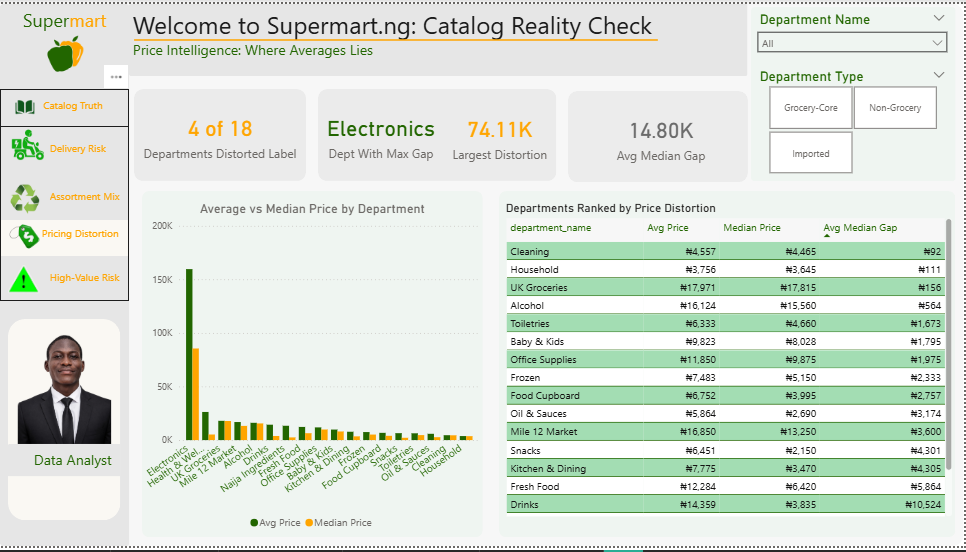

What the dashboard file says about the page in this screenshot:
{"tool":"powerbi","page":{"name":"Pricing Distortion","canvas":[1280,720],"ordinal":3},"visuals":[{"type":"shape","box":[0,0,1280.2,720],"z":0},{"type":"actionButton","box":[0,113.5,171.8,50.8],"z":0,"group":"g5"},{"type":"shape","box":[998.6,4.5,271.9,231.5],"z":500,"group":"g7"},{"type":"shape","box":[177.8,113.5,228.5,122.5],"z":1000},{"type":"actionButton","box":[0,164.3,171.8,50.8],"z":1000,"group":"g5"},{"type":"shape","box":[0,0,171.8,720],"z":2000},{"type":"slicer","fields":{"Values":["public dim_department.department_type"]},"box":[996.9,80.7,271.9,152.4],"z":2000,"group":"g7"},{"type":"actionButton","box":[0,236,171.8,50.8],"z":2000,"group":"g5"},{"type":"shape","box":[422.7,113.5,316.7,122.5],"z":3000},{"type":"shape","box":[171.8,0,821.6,95.6],"z":4000},{"type":"slicer","fields":{"Values":["public fact_products.department_name"]},"box":[997.1,4.5,271.9,76.2],"z":4000,"group":"g7"},{"type":"actionButton","box":[0,343.5,171.8,50.8],"z":4000,"group":"g5"},{"type":"shape","box":[754.4,115,239,121],"z":5000},{"type":"textbox","box":[171.8,0,826.1,95.6],"z":6000},{"type":"image","box":[43.3,31.4,86.6,64.2],"z":7000},{"type":"textbox","box":[0,0,171.8,50.8],"z":8000},{"type":"shape","box":[177.8,0,696.1,95.6],"z":9000},{"type":"card","title":"Largest Distortion","fields":{"Values":["public fact_products.Largest Distortion"]},"box":[588.2,114.4,150.9,121.3],"z":9000,"group":"g1"},{"type":"card","fields":{"Values":["public fact_products.Departments Distorted Label"]},"box":[177.8,113.5,228.5,122.5],"z":10000},{"type":"card","title":"Largest Distortion","fields":{"Values":["public fact_products.Dept With Max Gap"]},"box":[422.7,113.5,167.3,122.5],"z":10003,"group":"g1"},{"type":"card","fields":{"Values":["public dim_department.Avg Median Gap"]},"box":[758.8,116.5,239,119.5],"z":11000},{"type":"image","box":[14.9,164.3,44.8,48],"z":11000,"group":"g4"},{"type":"group","id":"g1","title":"Group 1","box":[422.7,113.5,316.7,122.5],"z":12000},{"type":"textbox","box":[44.8,121,127,34.4],"z":12000,"group":"g3"},{"type":"group","id":"g2","title":"Group 2","box":[0,113.5,171.8,278],"z":13000},{"type":"textbox","box":[61.2,177.8,110.5,34.4],"z":13000,"group":"g3"},{"type":"image","box":[12,236,43.3,47.8],"z":13000,"group":"g4"},{"type":"shape","box":[0,287.5,171.8,47.8],"z":13500,"group":"g4"},{"type":"group","id":"g3","title":"Group 4","box":[44.8,121,132.9,262.9],"z":14000},{"type":"textbox","box":[61.2,242,110.5,34.4],"z":14000,"group":"g3"},{"type":"image","box":[10.5,287.5,44.8,44.8],"z":14000,"group":"g4"},{"type":"group","id":"g4","title":"Group 3","box":[0,113.5,171.8,278],"z":14003,"group":"g2"},{"type":"group","id":"g5","title":"Group 5","box":[0,113.5,171.8,280.8],"z":15000},{"type":"textbox","box":[49.6,291.3,116.5,34.4],"z":15000,"group":"g3"},{"type":"shape","box":[188.2,248,452.6,460.1],"z":16000},{"type":"image","box":[10.5,343.5,44,48],"z":16000,"group":"g4"},{"type":"textbox","box":[61.2,349.5,116.5,34.4],"z":16000,"group":"g3"},{"type":"image","box":[10.5,113.5,44.8,48],"z":16500,"group":"g4"},{"type":"clusteredColumnChart","title":"Average vs Median Price by Department","fields":{"Category":["public dim_department.department_name"],"Y":["public dim_department.Avg Price","public dim_department.Median Price"]},"box":[188.6,261.5,452.8,445.9],"z":17000},{"type":"shape","box":[663.2,248,606.5,460.1],"z":18000},{"type":"tableEx","title":"Departments Ranked by Price Distortion","fields":{"Values":["public dim_department.department_name","public dim_department.Avg Price","public dim_department.Median Price","public dim_department.Avg Median Gap"]},"box":[666.2,261.4,603.5,424.2],"z":19000},{"type":"shape","box":[10.5,418.3,149.4,267.4],"z":19000,"group":"g6"},{"type":"group","id":"g6","title":"Group 6","box":[10.5,418.3,149.4,267.4],"z":20000},{"type":"shape","box":[10.5,584.1,149.4,43.3],"z":20000,"group":"g6"},{"type":"group","id":"g7","title":"Group 7","box":[996.9,4.5,273.6,231.5],"z":21000},{"type":"image","box":[10.5,418.3,149.4,165.8],"z":21000,"group":"g6"},{"type":"textbox","box":[32.9,587.1,127,38.8],"z":22000,"group":"g6"}]}

Visuals, with their boxes on the page's 1280x720 design canvas (x1, y1, x2, y2). These are canvas units, not pixel positions in the 966x552 screenshot, which may show the page scaled, cropped or inside an application window:
shape: [left=0, top=0, right=1280, bottom=720]
actionButton: [left=0, top=114, right=172, bottom=164]
shape: [left=999, top=4, right=1270, bottom=236]
shape: [left=178, top=114, right=406, bottom=236]
actionButton: [left=0, top=164, right=172, bottom=215]
shape: [left=0, top=0, right=172, bottom=720]
slicer - public dim_department.department_type: [left=997, top=81, right=1269, bottom=233]
actionButton: [left=0, top=236, right=172, bottom=287]
shape: [left=423, top=114, right=739, bottom=236]
shape: [left=172, top=0, right=993, bottom=96]
slicer - public fact_products.department_name: [left=997, top=4, right=1269, bottom=81]
actionButton: [left=0, top=344, right=172, bottom=394]
shape: [left=754, top=115, right=993, bottom=236]
textbox: [left=172, top=0, right=998, bottom=96]
image: [left=43, top=31, right=130, bottom=96]
textbox: [left=0, top=0, right=172, bottom=51]
shape: [left=178, top=0, right=874, bottom=96]
"Largest Distortion" card: [left=588, top=114, right=739, bottom=236]
card - public fact_products.Departments Distorted Label: [left=178, top=114, right=406, bottom=236]
"Largest Distortion" card: [left=423, top=114, right=590, bottom=236]
card - public dim_department.Avg Median Gap: [left=759, top=116, right=998, bottom=236]
image: [left=15, top=164, right=60, bottom=212]
"Group 1" group: [left=423, top=114, right=739, bottom=236]
textbox: [left=45, top=121, right=172, bottom=155]
"Group 2" group: [left=0, top=114, right=172, bottom=392]
textbox: [left=61, top=178, right=172, bottom=212]
image: [left=12, top=236, right=55, bottom=284]
shape: [left=0, top=288, right=172, bottom=335]
"Group 4" group: [left=45, top=121, right=178, bottom=384]
textbox: [left=61, top=242, right=172, bottom=276]
image: [left=10, top=288, right=55, bottom=332]
"Group 3" group: [left=0, top=114, right=172, bottom=392]
"Group 5" group: [left=0, top=114, right=172, bottom=394]
textbox: [left=50, top=291, right=166, bottom=326]
shape: [left=188, top=248, right=641, bottom=708]
image: [left=10, top=344, right=54, bottom=392]
textbox: [left=61, top=350, right=178, bottom=384]
image: [left=10, top=114, right=55, bottom=162]
"Average vs Median Price by Department" clusteredColumnChart: [left=189, top=262, right=641, bottom=707]
shape: [left=663, top=248, right=1270, bottom=708]
"Departments Ranked by Price Distortion" tableEx: [left=666, top=261, right=1270, bottom=686]
shape: [left=10, top=418, right=160, bottom=686]
"Group 6" group: [left=10, top=418, right=160, bottom=686]
shape: [left=10, top=584, right=160, bottom=627]
"Group 7" group: [left=997, top=4, right=1270, bottom=236]
image: [left=10, top=418, right=160, bottom=584]
textbox: [left=33, top=587, right=160, bottom=626]
